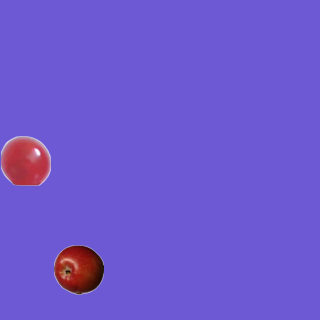Apple Braeburn: (53, 244, 103, 294)
Redcurrant: (0, 135, 50, 185)
